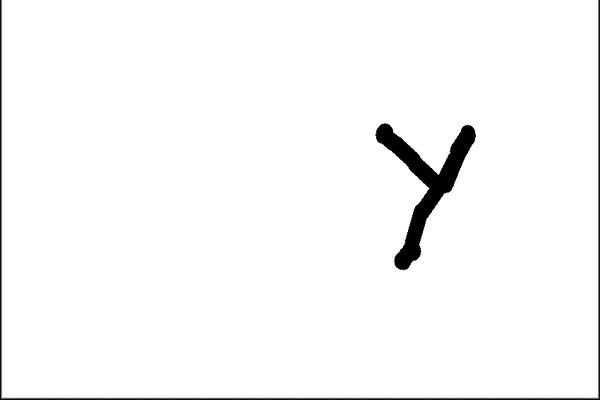Y: (358, 113, 490, 288)
